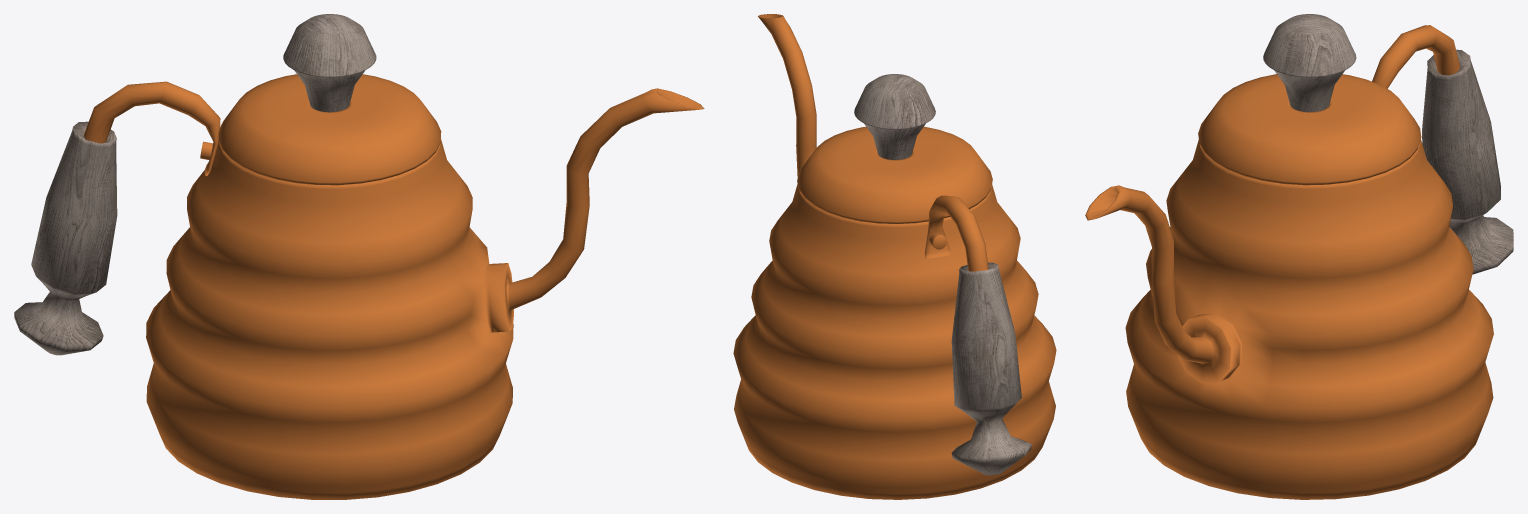
The model's file is bakir-caydanlik.glb.
3 renders of one model, left to right at view 1: azimuth 30°, elevation 25°; view 2: azimuth 150°, elevation 25°; view 3: azimuth 270°, elevation 25°, orthographic. The views are drawn at different scales.
Parts seen in each view (by area): view 1: Persian copper kettle dish; view 2: Persian copper kettle dish; view 3: Persian copper kettle dish.
Boxes of the visible parts, box(x1,y1,x2,y2) form: Persian copper kettle dish: box(14, 14, 704, 499); Persian copper kettle dish: box(733, 14, 1056, 499); Persian copper kettle dish: box(1085, 14, 1513, 499).
Bounding box in the file's own units: 0.3389 × 0.2692 × 0.255.
Materials: 2 (1 with a texture image).
